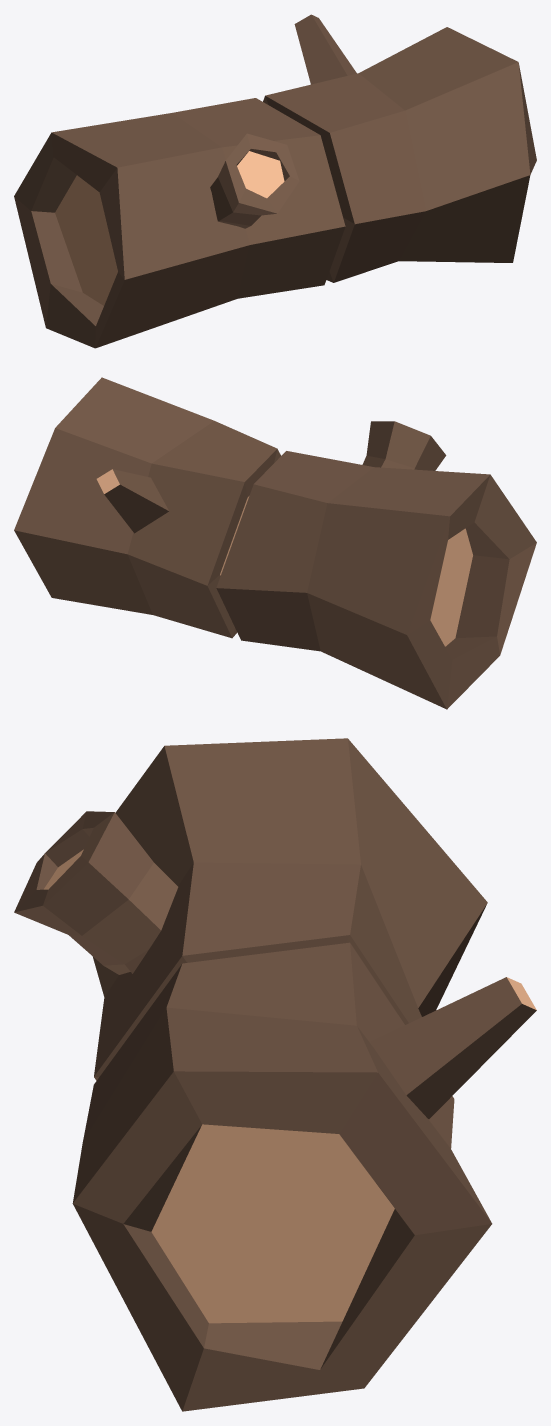
File: Acacia_Split.fbx
3 views of the same model, one above another, from view 1: azimuth 30°, elevation 25°; view 2: azimuth 150°, elevation 25°; view 3: azimuth 270°, elevation 25° (orthographic). The views are drawn at different scales.
Parts seen in each view (by area): view 1: Front, End, Branch2, Branch; view 2: Front, End, Branch2, Branch; view 3: End, Front, Branch2, Branch.
Boxes of the visible parts, bbox=[...] form: Front: bbox=[14, 98, 345, 348]; End: bbox=[263, 27, 536, 282]; Branch2: bbox=[210, 133, 299, 228]; Branch: bbox=[294, 14, 356, 84]; Front: bbox=[216, 451, 536, 709]; End: bbox=[14, 377, 280, 638]; Branch2: bbox=[362, 421, 446, 470]; Branch: bbox=[96, 469, 169, 533]; End: bbox=[72, 942, 492, 1411]; Front: bbox=[92, 738, 487, 1080]; Branch2: bbox=[14, 811, 178, 974]; Branch: bbox=[371, 977, 536, 1118].
Bounding box in the file's own units: 463 × 224 × 289.
